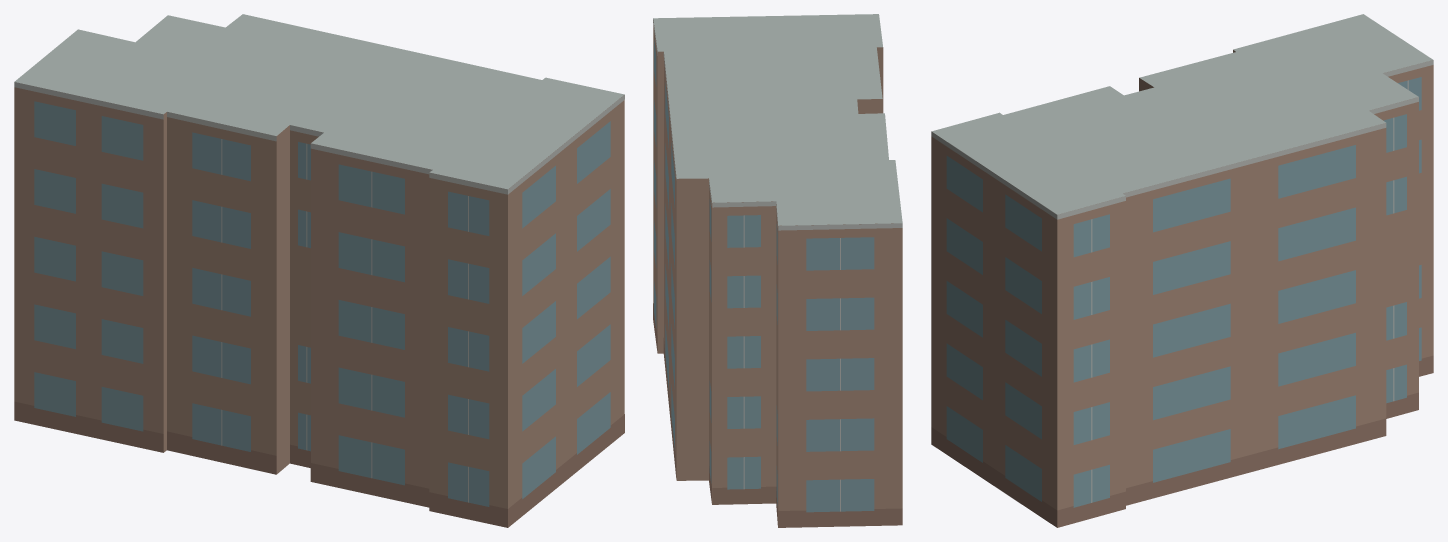
Rendered from survey-upis-32909732.glb.
3 renders of one model, left to right at view 1: azimuth 30°, elevation 25°; view 2: azimuth 150°, elevation 25°; view 3: azimuth 270°, elevation 25°, orthographic. The views are drawn at different scales.
Visible parts, largest first — view 1: survey-upis-32909732.tmp; view 2: survey-upis-32909732.tmp; view 3: survey-upis-32909732.tmp.
Part boxes in pixels (x1,y1,x2,y2): survey-upis-32909732.tmp: (14,14,624,527); survey-upis-32909732.tmp: (653,14,902,527); survey-upis-32909732.tmp: (931,14,1433,527).
Size of the model in its own units: 21.47 by 15.6 by 22.68.
